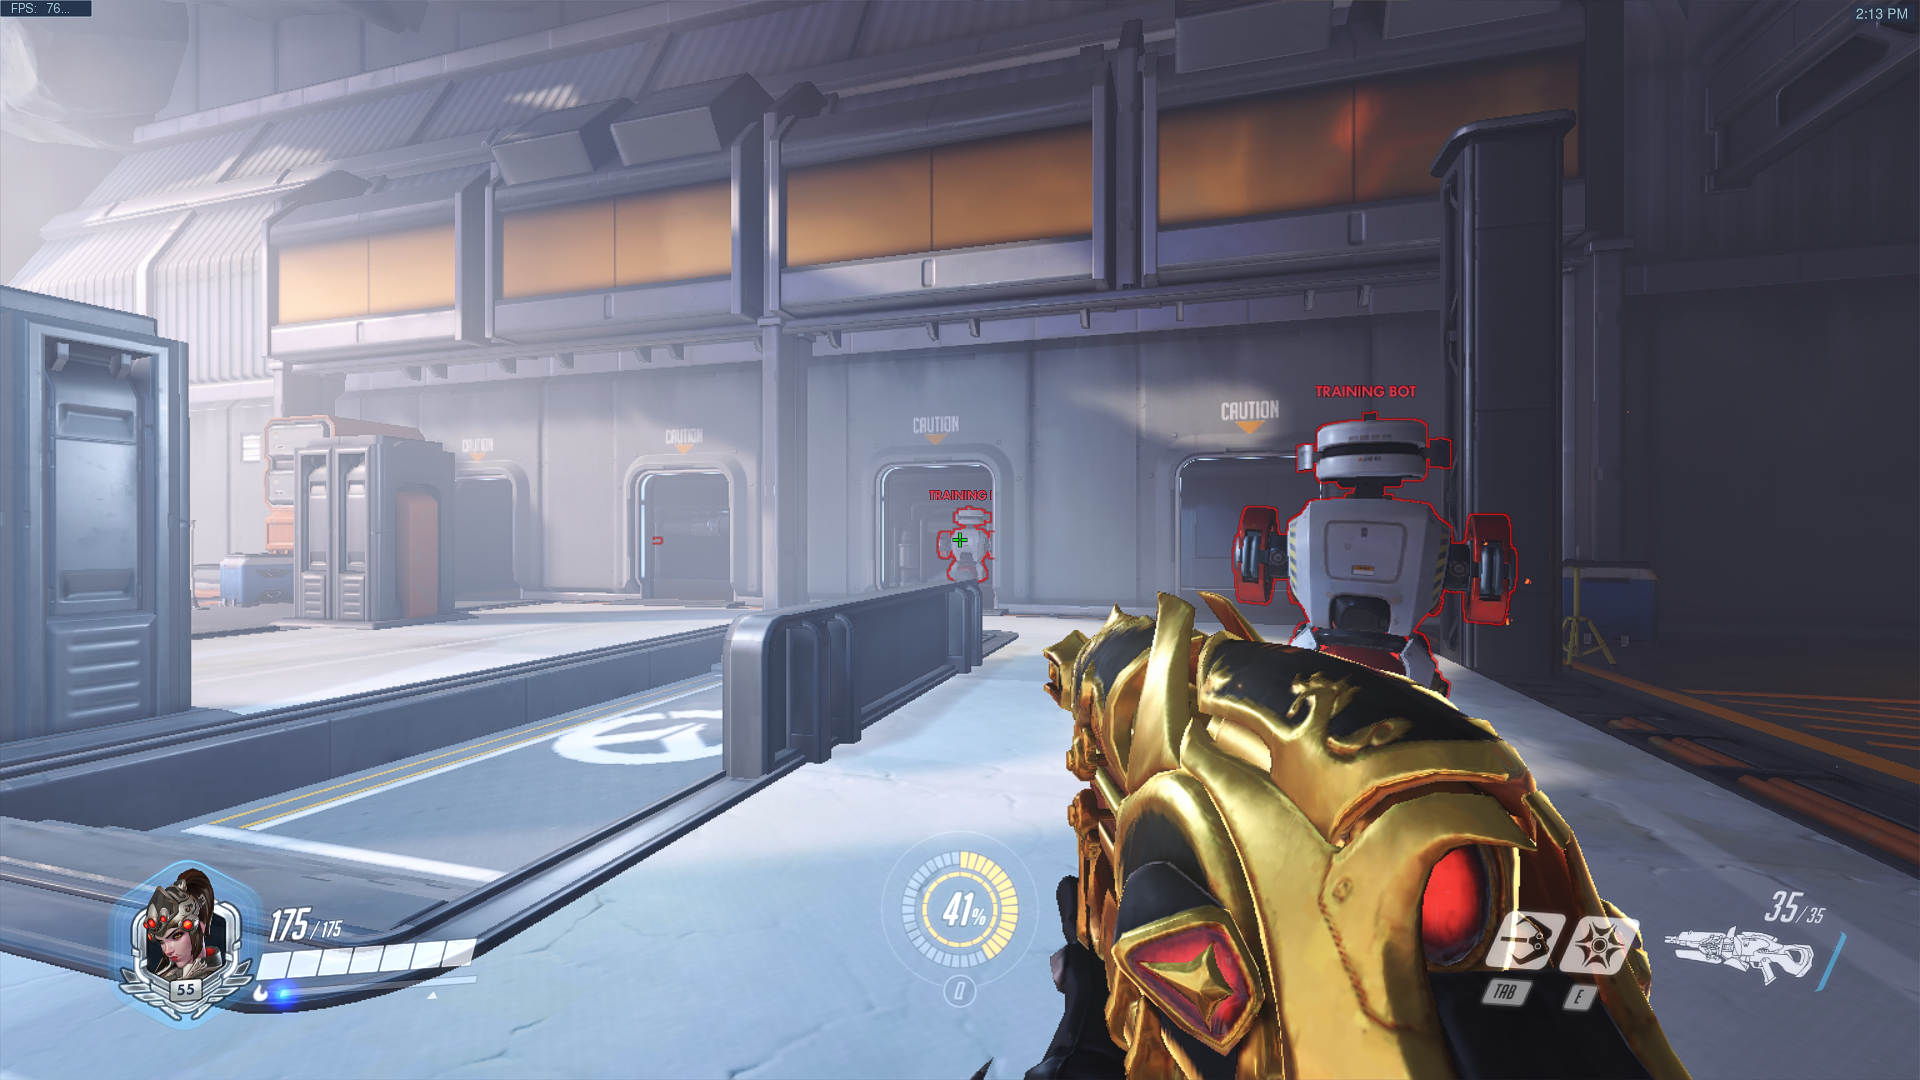head: (1304, 414, 1443, 481), (946, 510, 992, 527)
